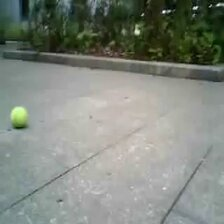tennis: (9, 106, 29, 127)
